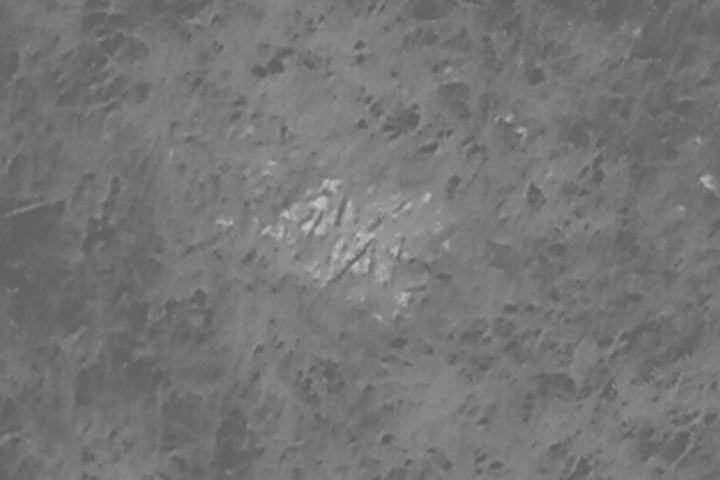landmine: (262, 158, 457, 319)
